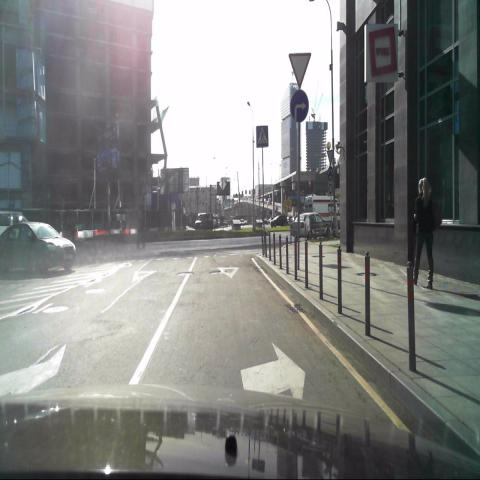4_1_2: (289, 88, 310, 125)
